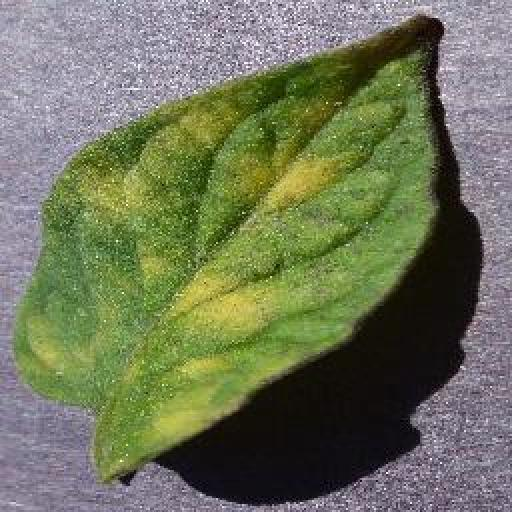Leaf Mold: (10, 12, 441, 480)
